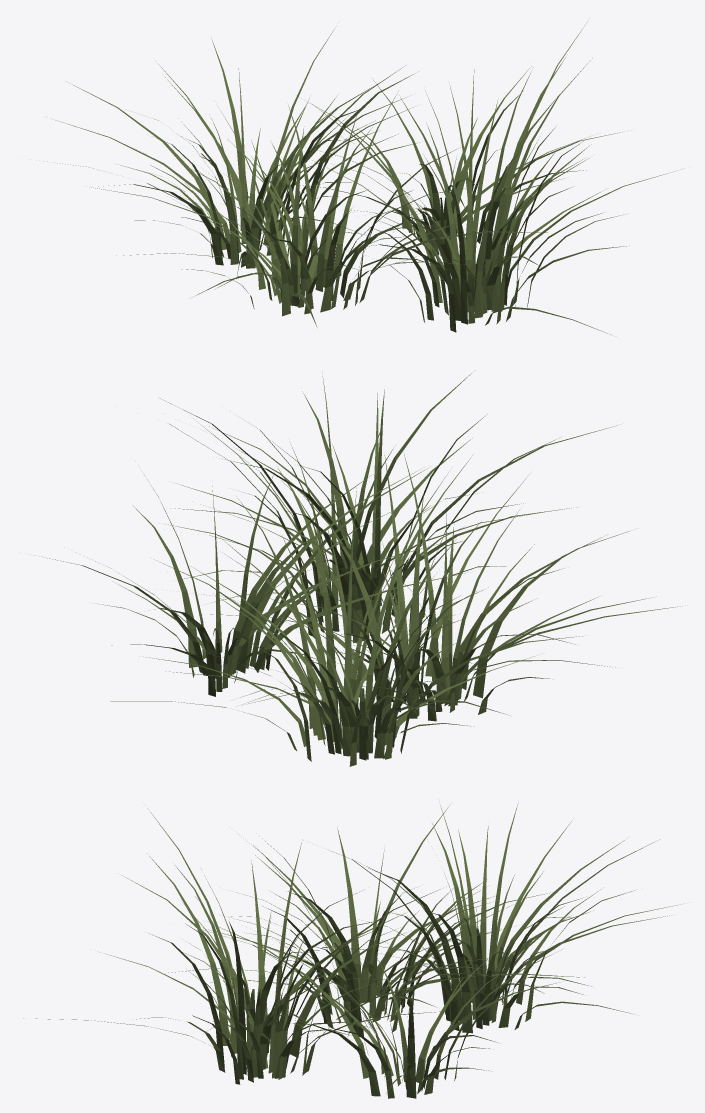
File: GrassClump.glb
3 views of the same model, one above another, from view 1: azimuth 30°, elevation 25°; view 2: azimuth 150°, elevation 25°; view 3: azimuth 270°, elevation 25° (orthographic). The views are drawn at different scales.
Parts seen in each view (by area): view 1: GrassClumpVisual; view 2: GrassClumpVisual; view 3: GrassClumpVisual.
Part boxes in pixels (x1=…): GrassClumpVisual: x1=44, y1=21, x2=681, y2=334; GrassClumpVisual: x1=41, y1=370, x2=682, y2=766; GrassClumpVisual: x1=23, y1=803, x2=682, y2=1098.
Size of the model in its own units: 1.26 by 0.4945 by 1.51.
